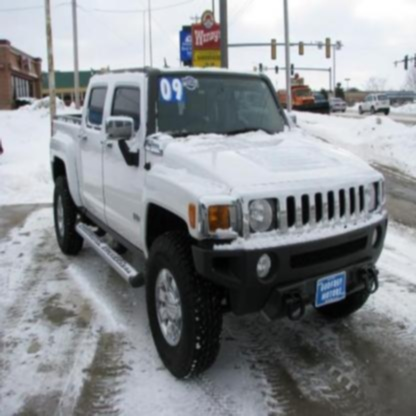Vehicle: (48, 59, 390, 384)
